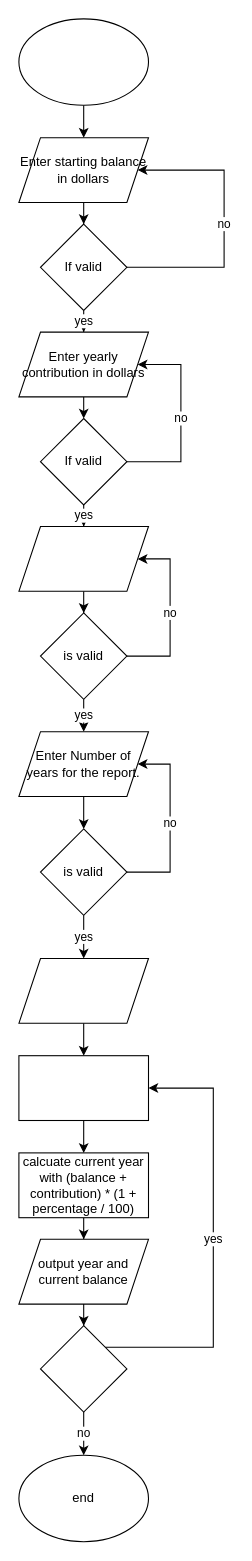
Image size: 252x1561. Some labels were removed from this diagram. Each missing label, with the centre of its shape:
Enter Average Return on Investment as %: [83,558]
if year less than report: [83,1368]
Increment year by 1: [83,1087]
Output starting balance: [83,990]
Start: [83,61]
